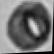correct: (4, 0, 53, 54)
